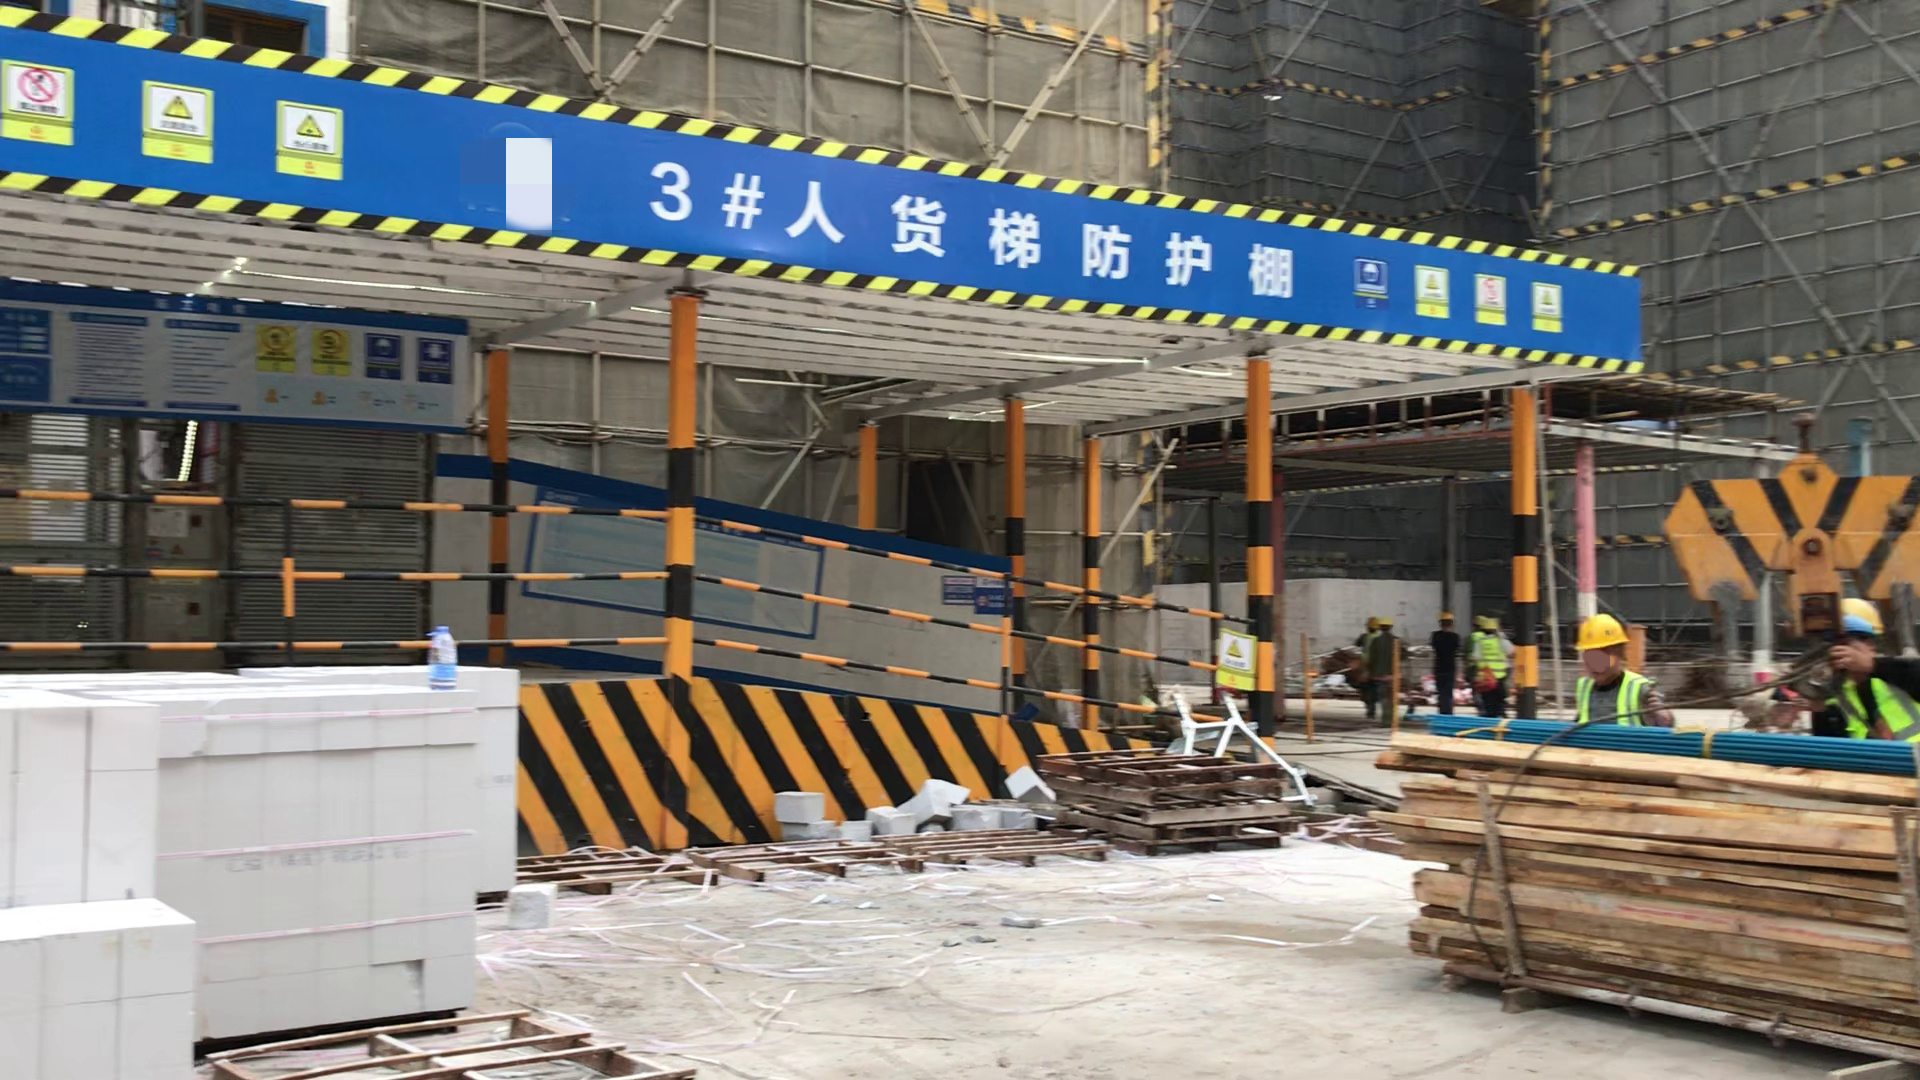brick: (2, 659, 522, 1080)
helmet: (1576, 614, 1631, 655), (1837, 596, 1885, 641), (1365, 615, 1398, 631), (1474, 615, 1496, 633), (1439, 611, 1454, 627)
hook: (1671, 412, 1920, 662)
person: (1811, 593, 1920, 741), (1572, 610, 1675, 726), (1357, 612, 1402, 729), (1466, 610, 1513, 718), (1428, 610, 1464, 718)
slogan: (1, 44, 221, 173), (1343, 247, 1574, 345), (255, 316, 458, 399), (272, 91, 354, 185), (1213, 620, 1257, 705)
vest: (1835, 676, 1920, 741), (1574, 675, 1650, 725), (1475, 637, 1506, 680)
wood: (1388, 722, 1920, 1064)
